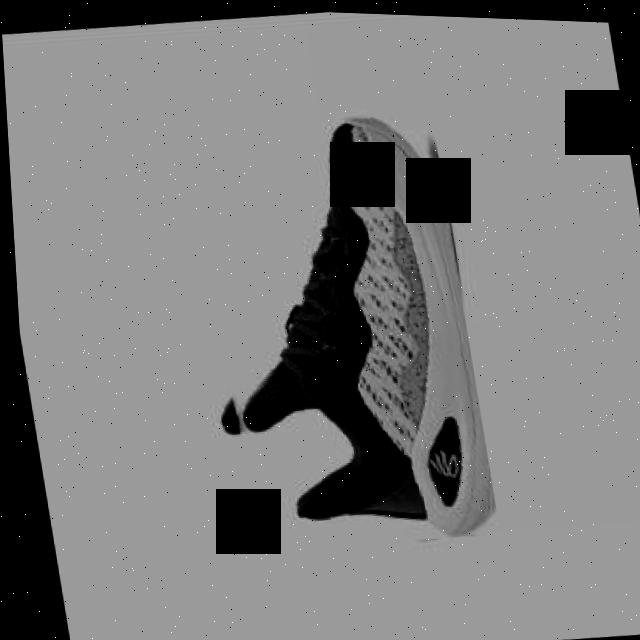shoe: (171, 100, 491, 557), (227, 109, 489, 535)
